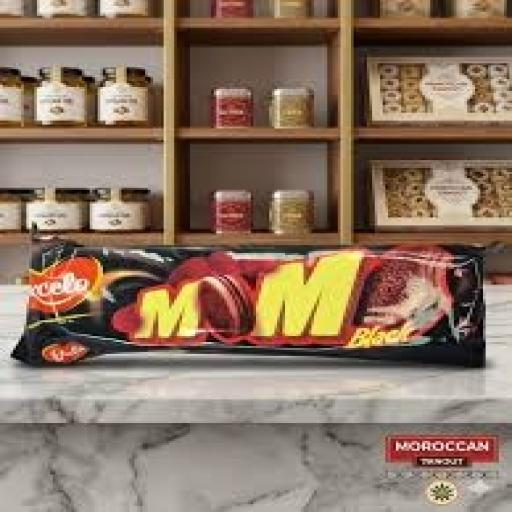MOMO: (16, 200, 512, 414)
